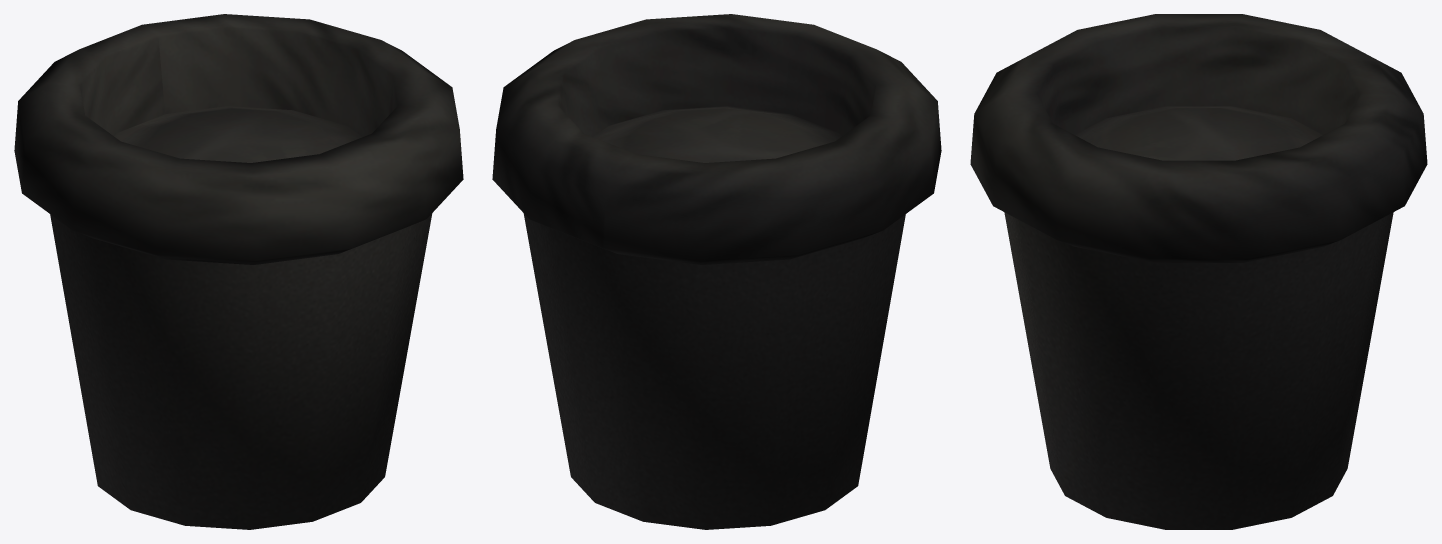
File: SM_Trash_Bin.FBX
The picture shows the model from 3 angles, left to right: view 1: azimuth 30°, elevation 25°; view 2: azimuth 150°, elevation 25°; view 3: azimuth 270°, elevation 25°; orthographic projection.
Visible parts, largest first — view 1: SM_Trash_Bin; view 2: SM_Trash_Bin; view 3: SM_Trash_Bin.
Part boxes in pixels (x1=…): SM_Trash_Bin: x1=14, y1=14, x2=463, y2=529; SM_Trash_Bin: x1=492, y1=14, x2=941, y2=529; SM_Trash_Bin: x1=970, y1=14, x2=1427, y2=529.
Size of the model in its own units: 37.43 by 38.39 by 35.56.
